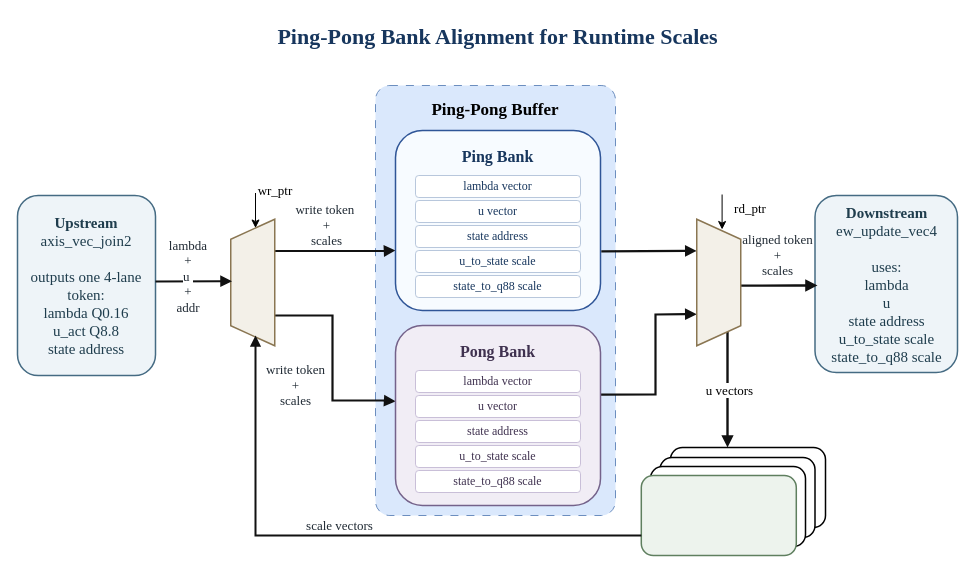
The diagram is 976 pixels wide and 573 high, and some of its shapes have lost their labels. The shapes that lost their labels are listed below. From the top down, each one's centre as x and y in pixels, then its label:
At point (252, 282): "write bank select".
At point (718, 282): "read bank select".
At point (718, 515): "Scale Generator dynamic scale x4".
